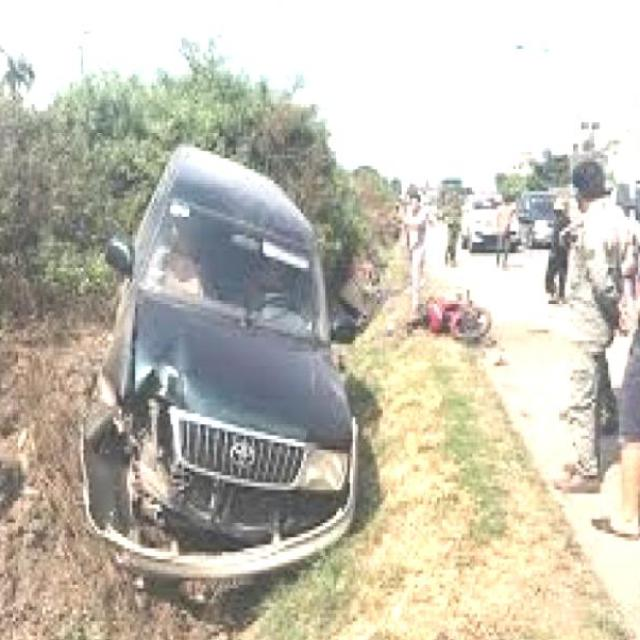accident: (80, 142, 376, 602)
